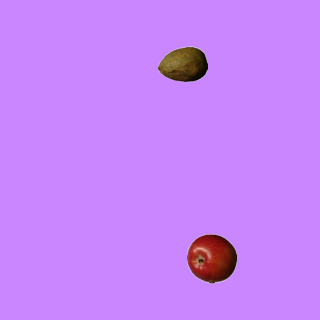Apple Braeburn: (186, 233, 236, 283)
Papaya: (157, 39, 207, 89)
